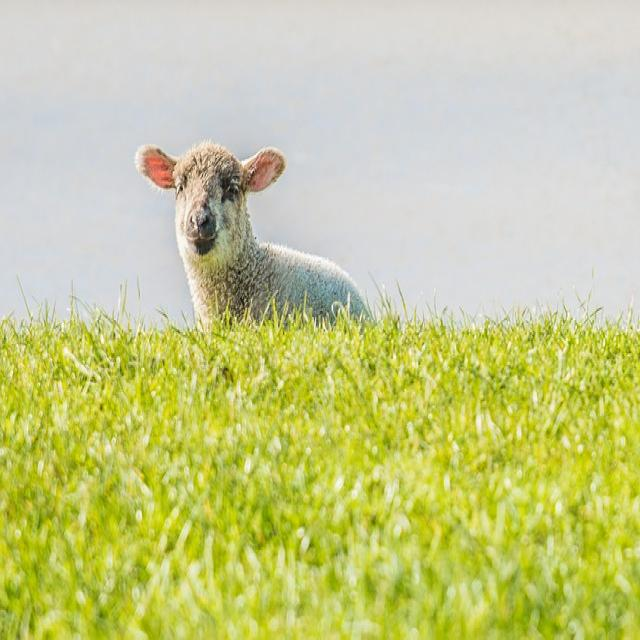goat: (132, 143, 367, 325)
